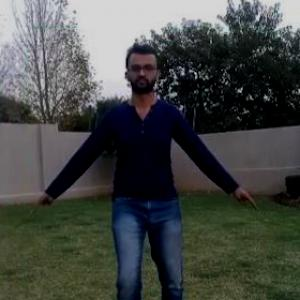land: (8, 33, 283, 299)
